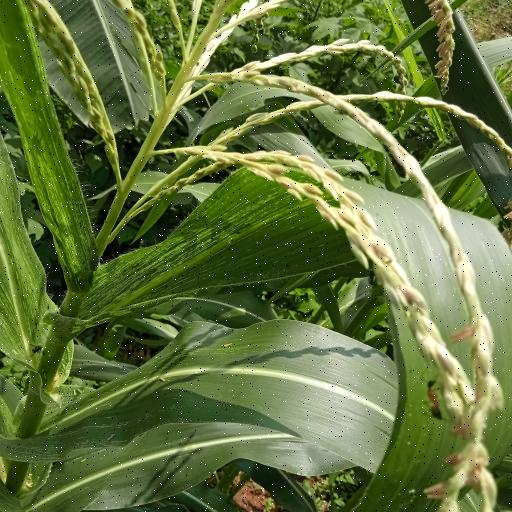Corn_Streak: (74, 173, 398, 327)
